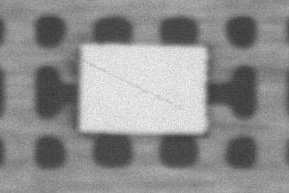DIE_CRACK: (126, 41, 271, 72)
